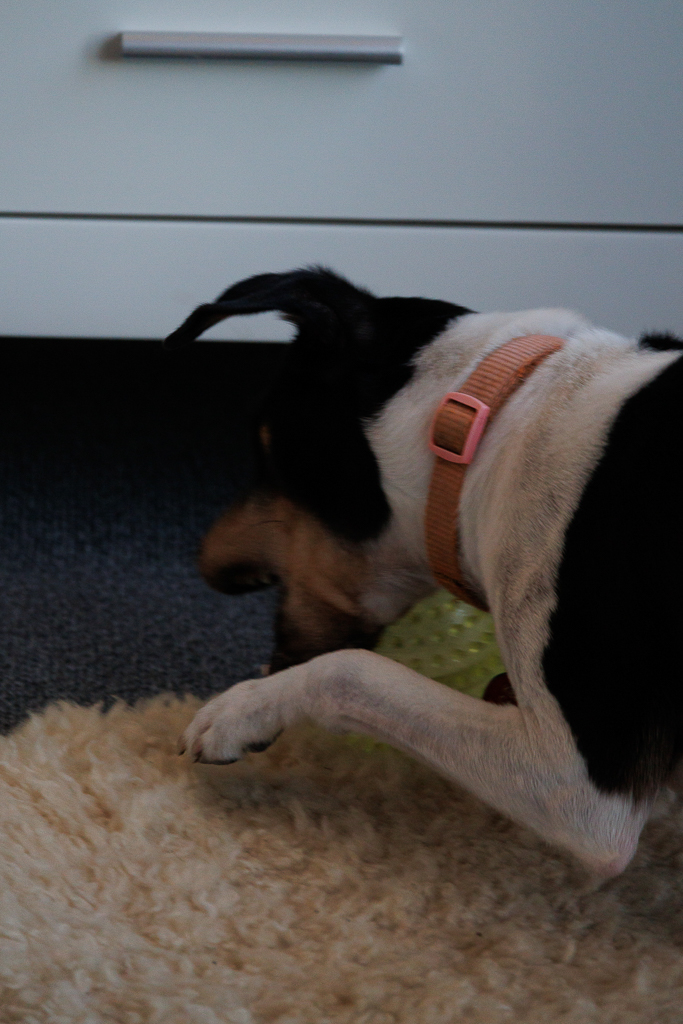Dog: (134, 250, 682, 920)
